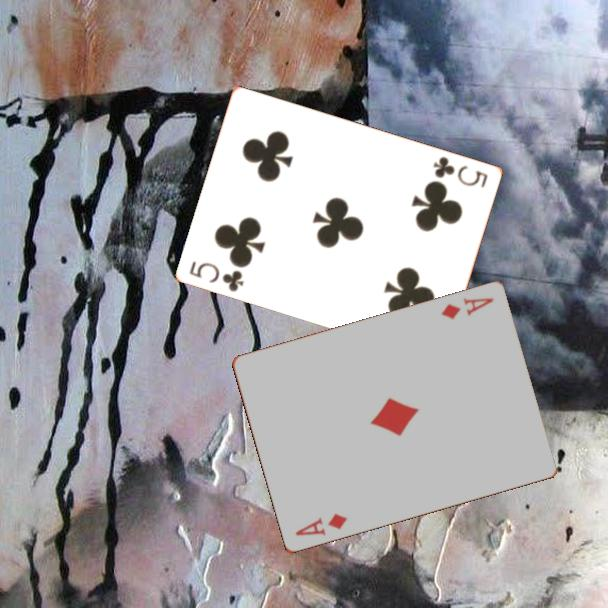c05: (430, 153, 491, 191), (186, 257, 247, 294)
d01: (291, 510, 350, 539), (437, 295, 496, 323)
